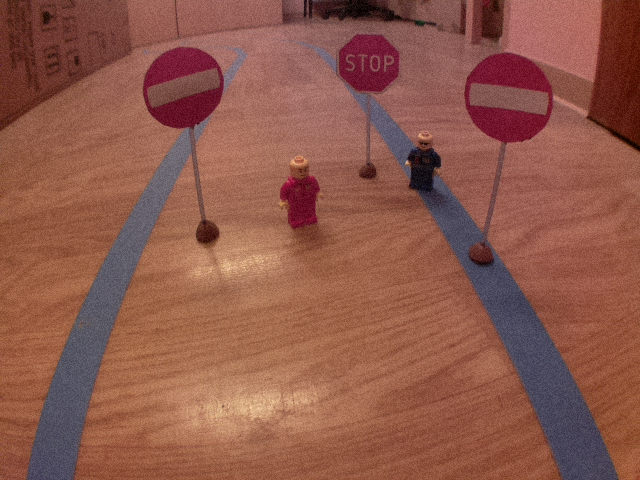LEGO_person: (274, 153, 327, 231), (403, 126, 447, 196)
stop: (334, 31, 403, 96)
zakaz: (463, 49, 555, 146), (141, 44, 226, 132)
